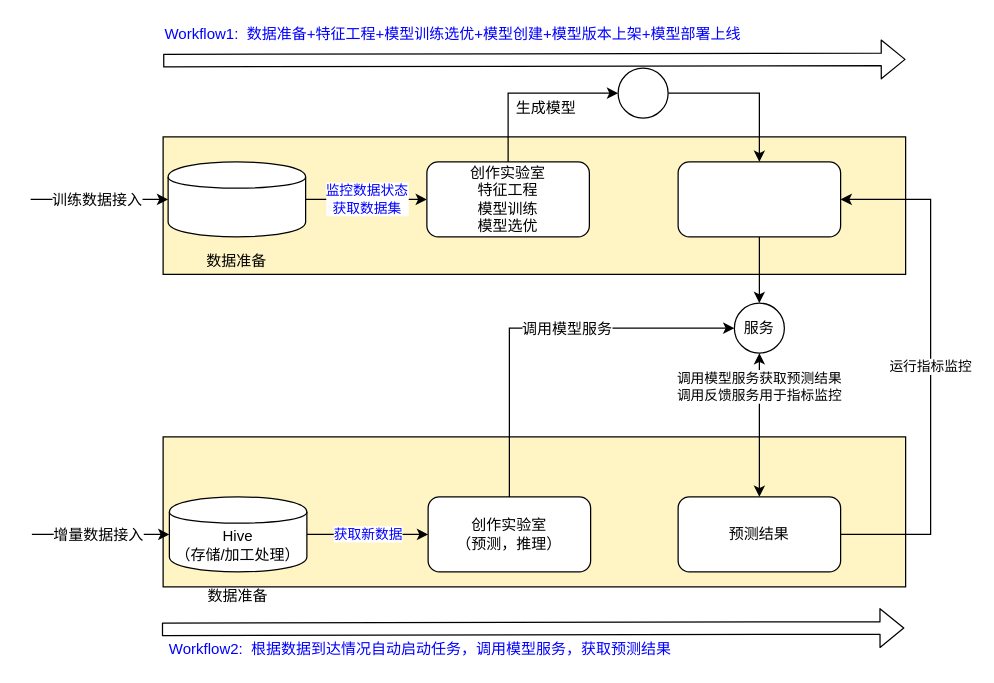
Image size: 994x683. Some labels were removed from this diagram. Each missing label, with the centre of its shape:
"Hive 存储/加工处理" belongs at (236,199).
"MI Hub 模型创建 模型版本上架 模型部署（上线）" belongs at (759,199).
"模型" belongs at (642,92).
